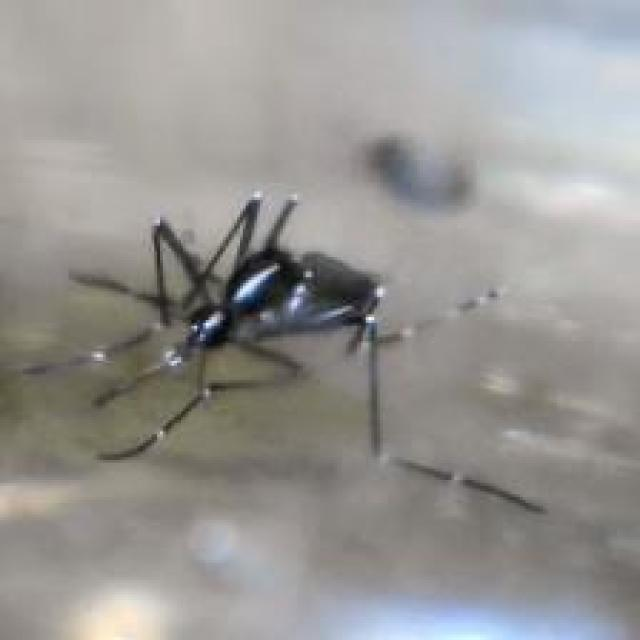Aedes albopictus: (20, 187, 549, 516)
